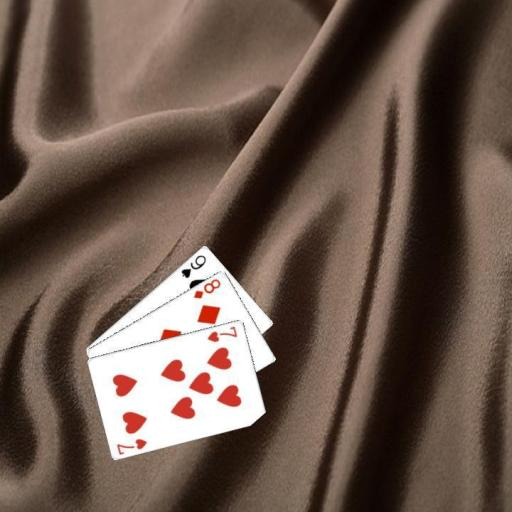card-corner: (178, 252, 208, 279), (190, 275, 222, 300), (114, 435, 148, 456), (204, 323, 239, 343)
